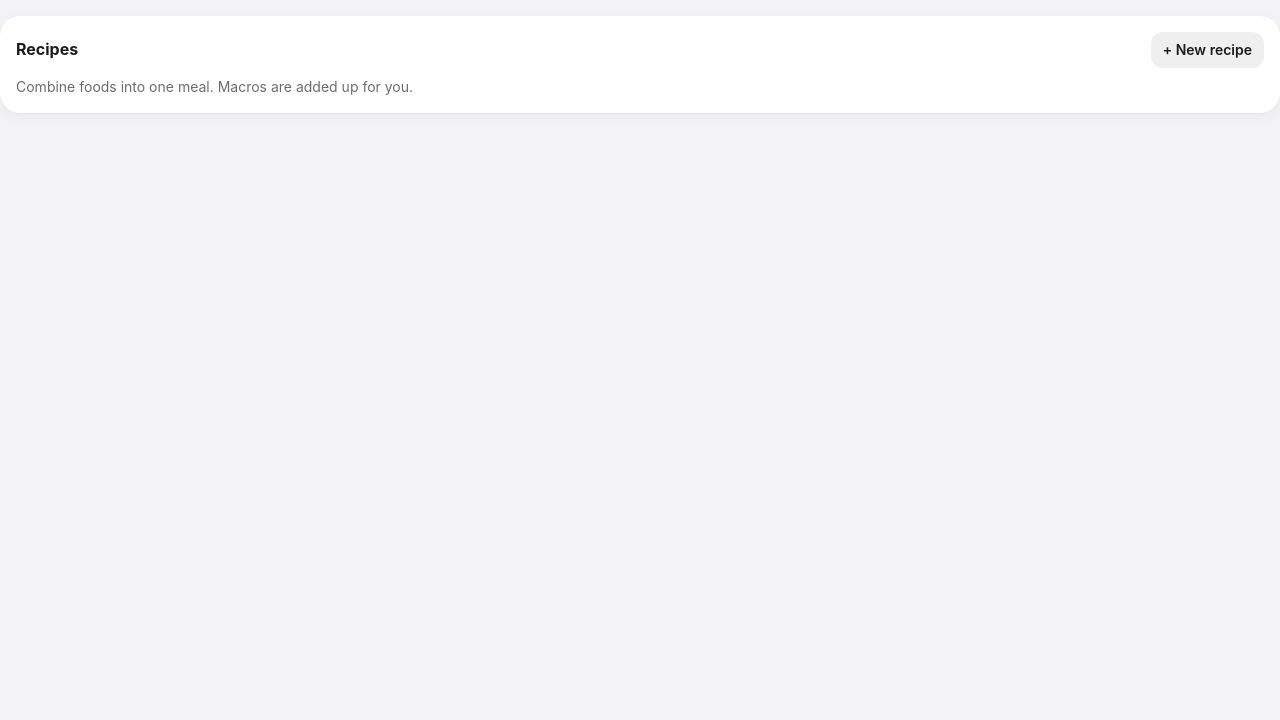
Test: Recipes card › refuses to save without ingredients
Click the button "+ New recipe" at (1207, 50), box [1151, 32, 1264, 68]
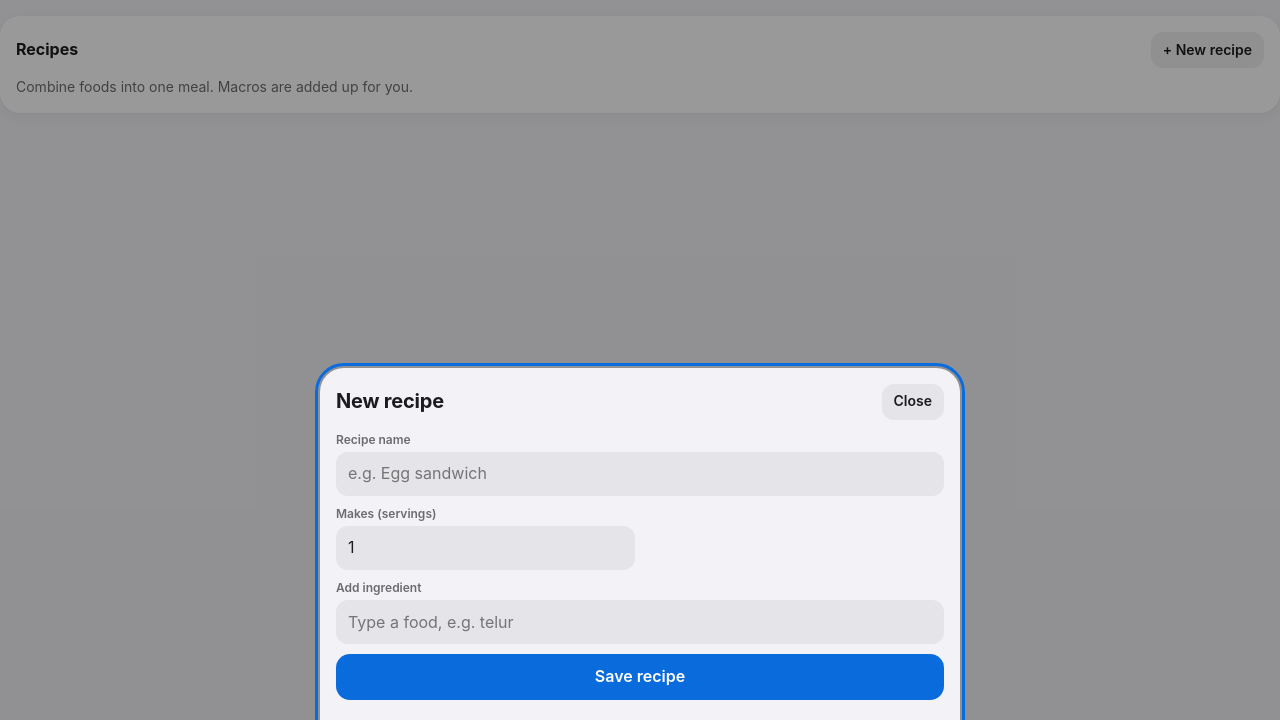
Type "Empty" into the field with placeholder "e.g. Egg sandwich" at (640, 474), box [336, 452, 944, 496]
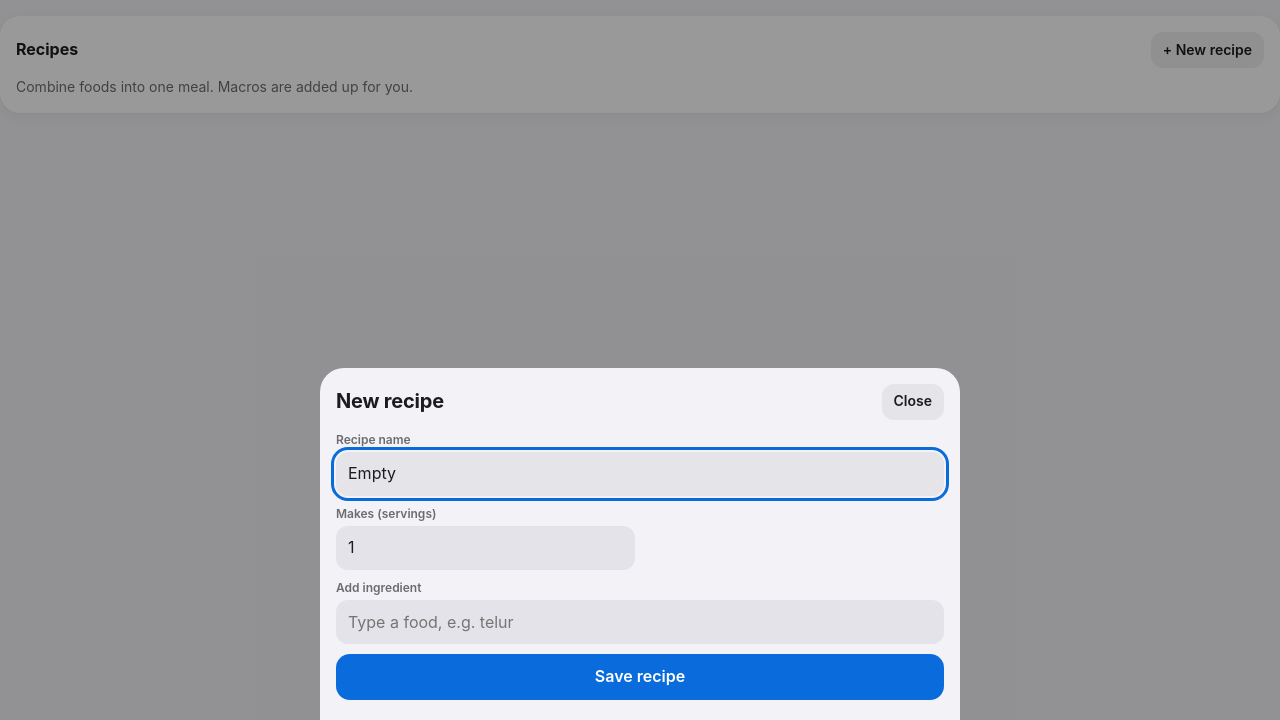
Click the button "Save recipe" at (640, 677), box [336, 654, 944, 700]
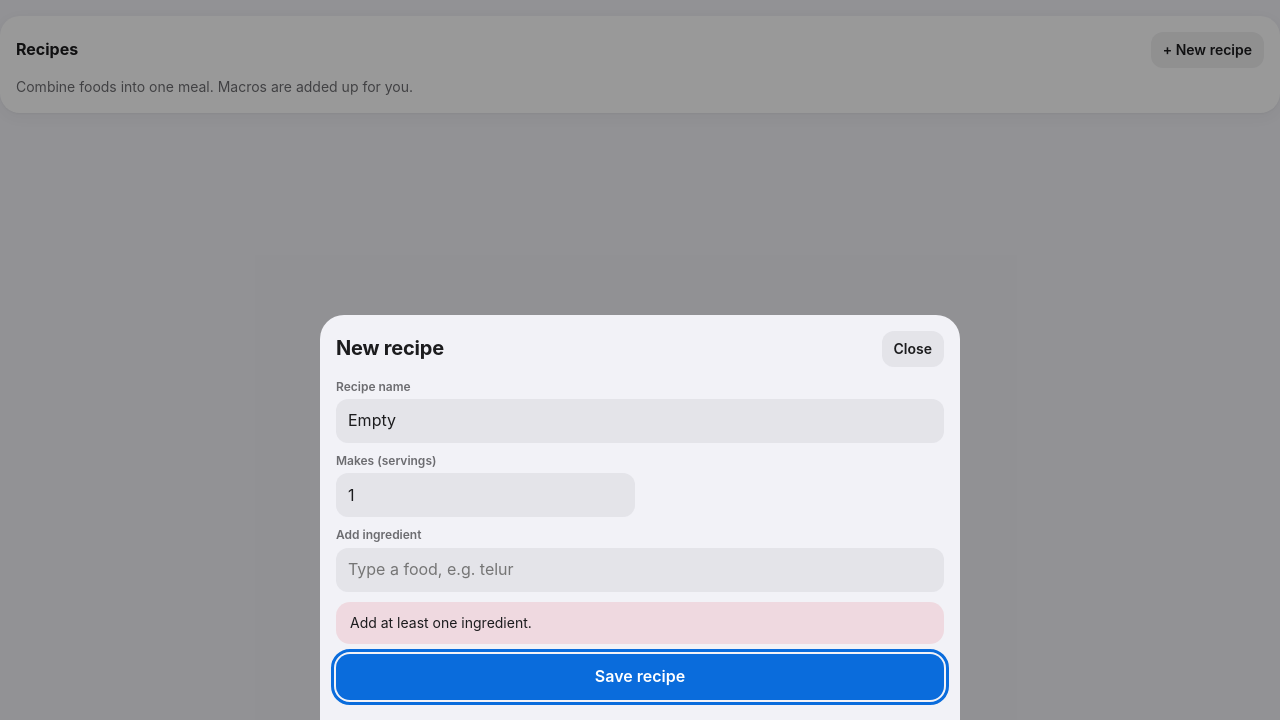
Check: the message shows "at least one ingredient", box [350, 614, 532, 630]
